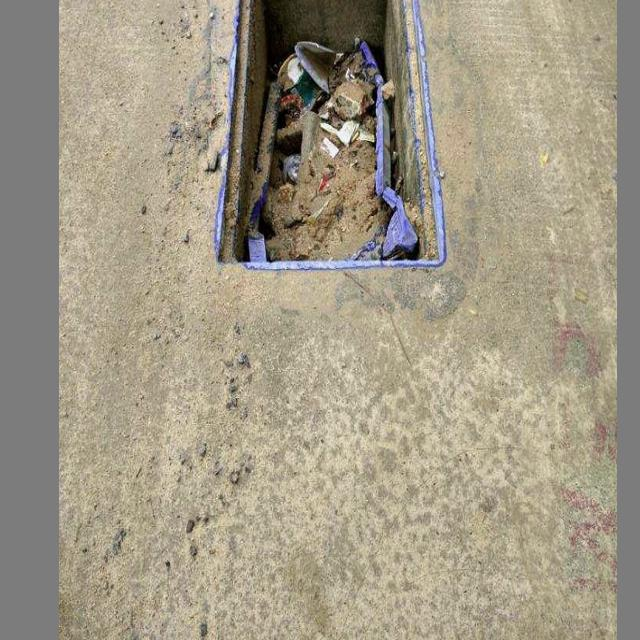lose: (214, 0, 447, 271)
